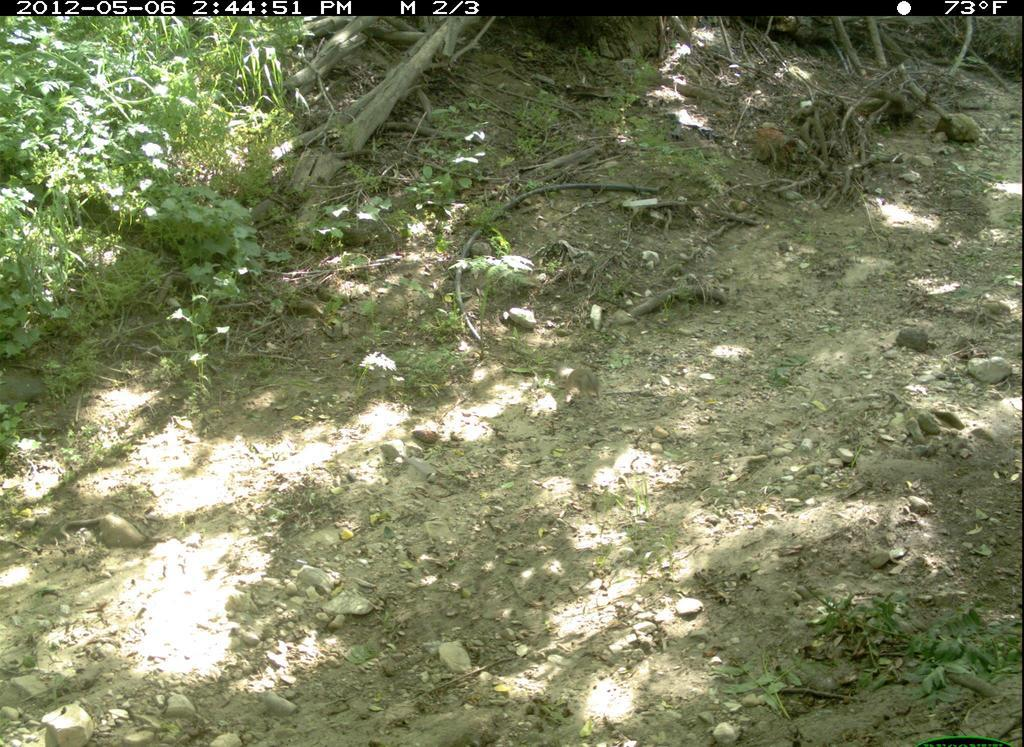rabbit: (553, 363, 611, 410)
